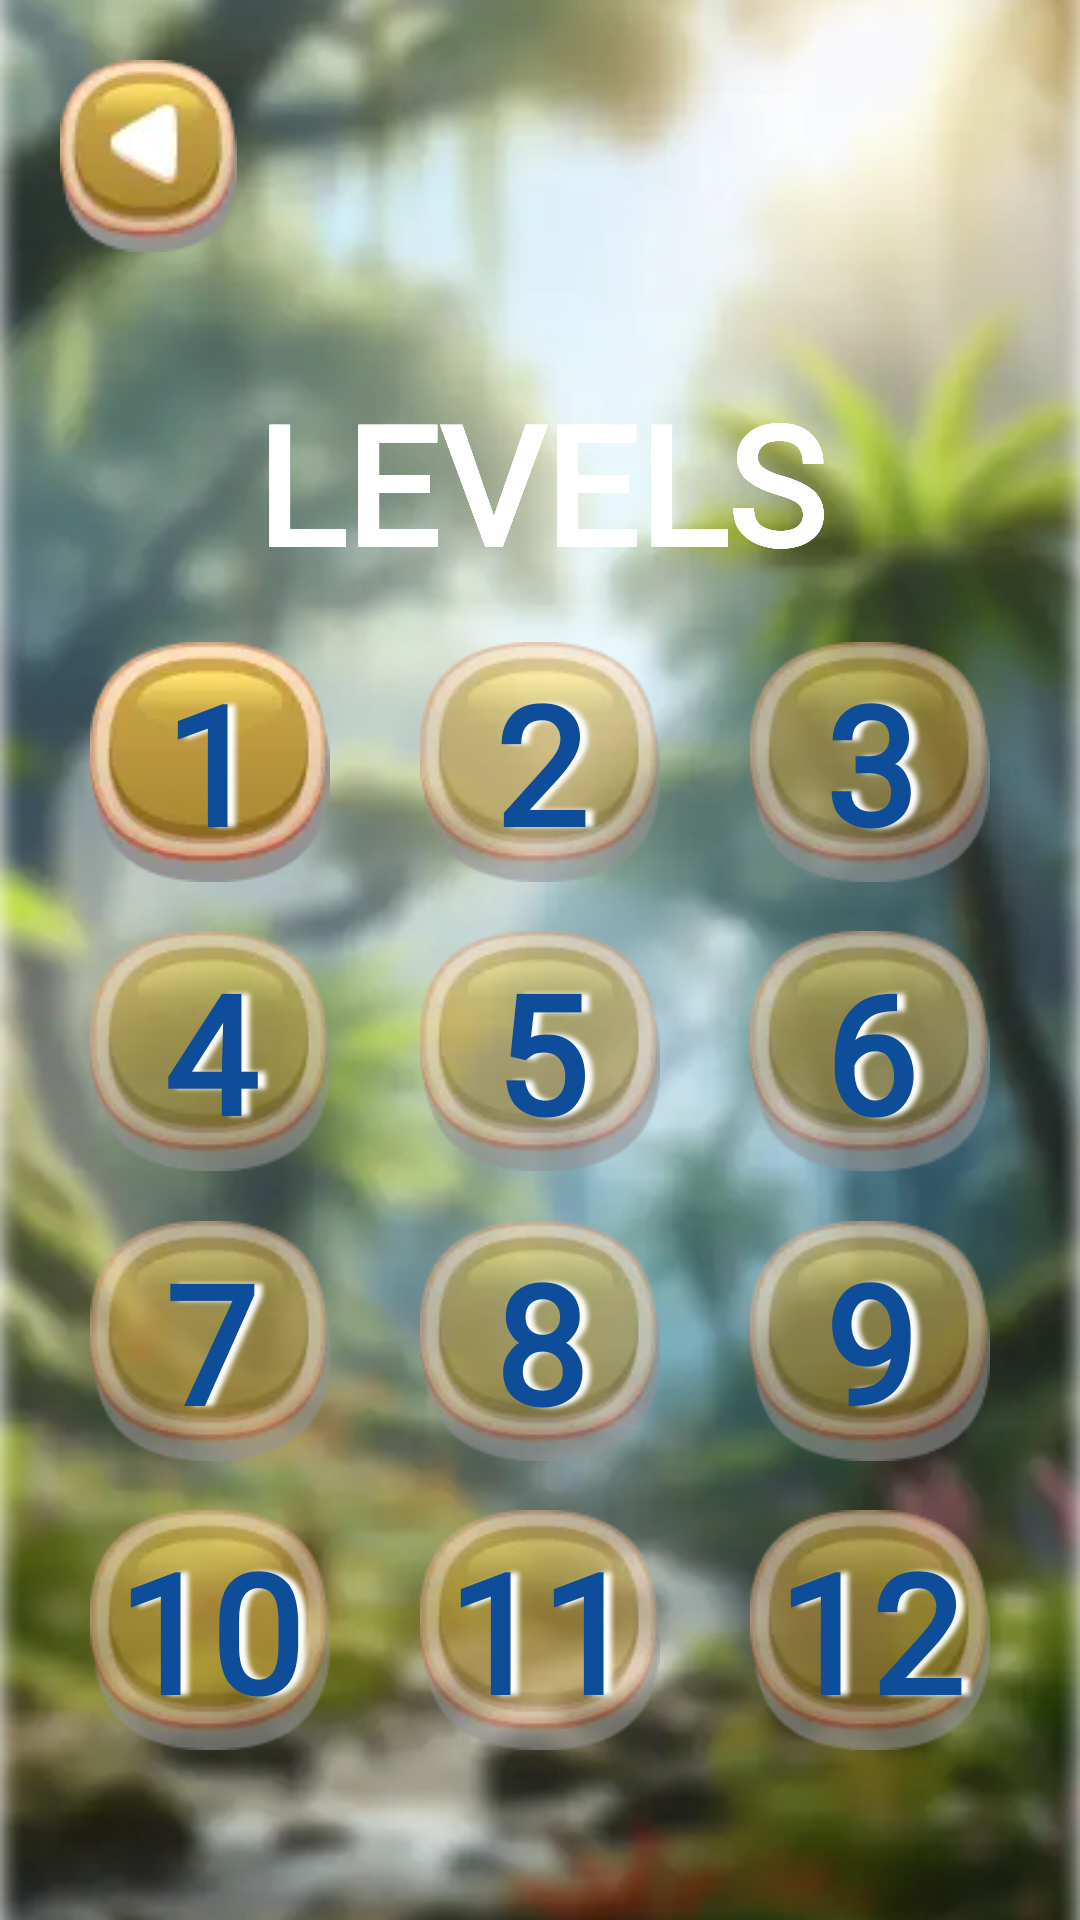

Screen size 1080w x 1920h. Icon name, then its center in pixels as [x,y]:
back: [148,156]
